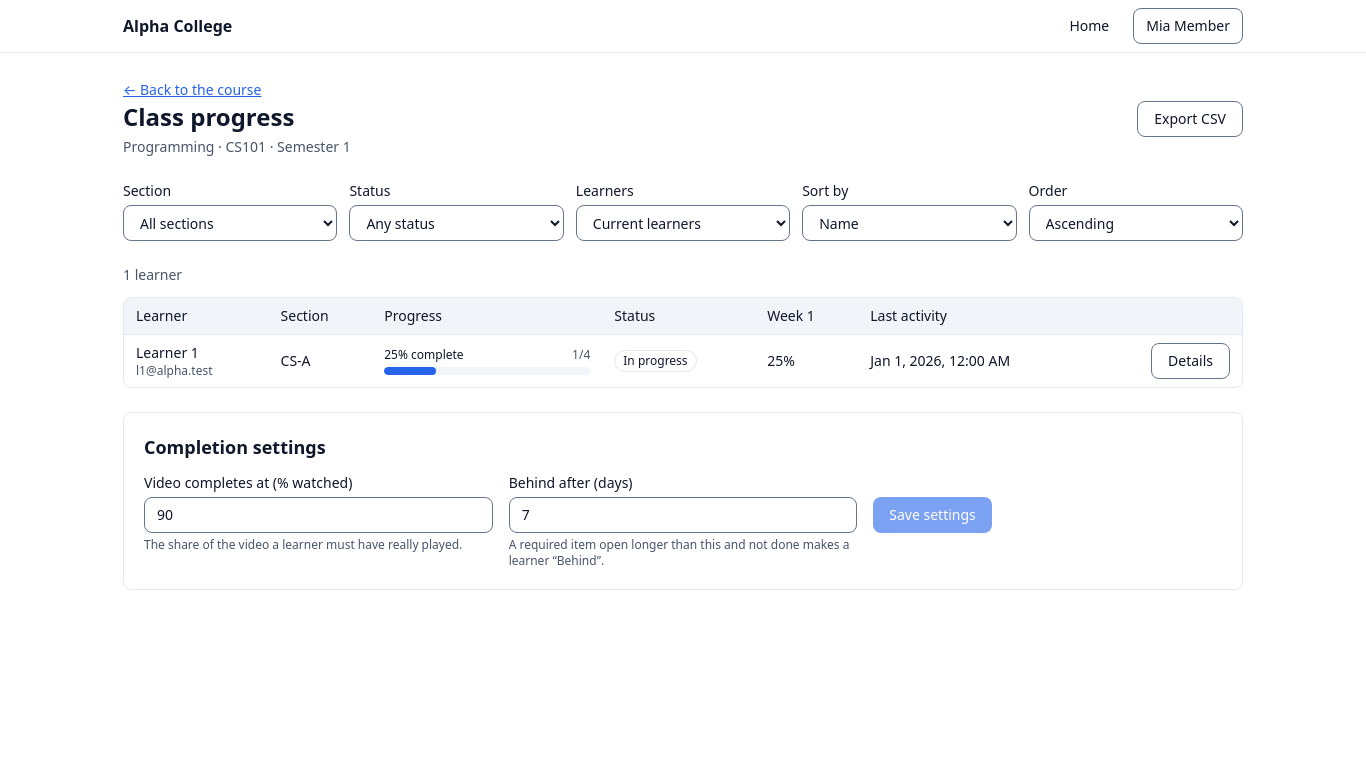
Test: the class progress page › opens one learner item by item, with flagged heartbeats
Click the button with aria-label "Details of Learner 1" at (1190, 361), box [1151,343,1230,379]
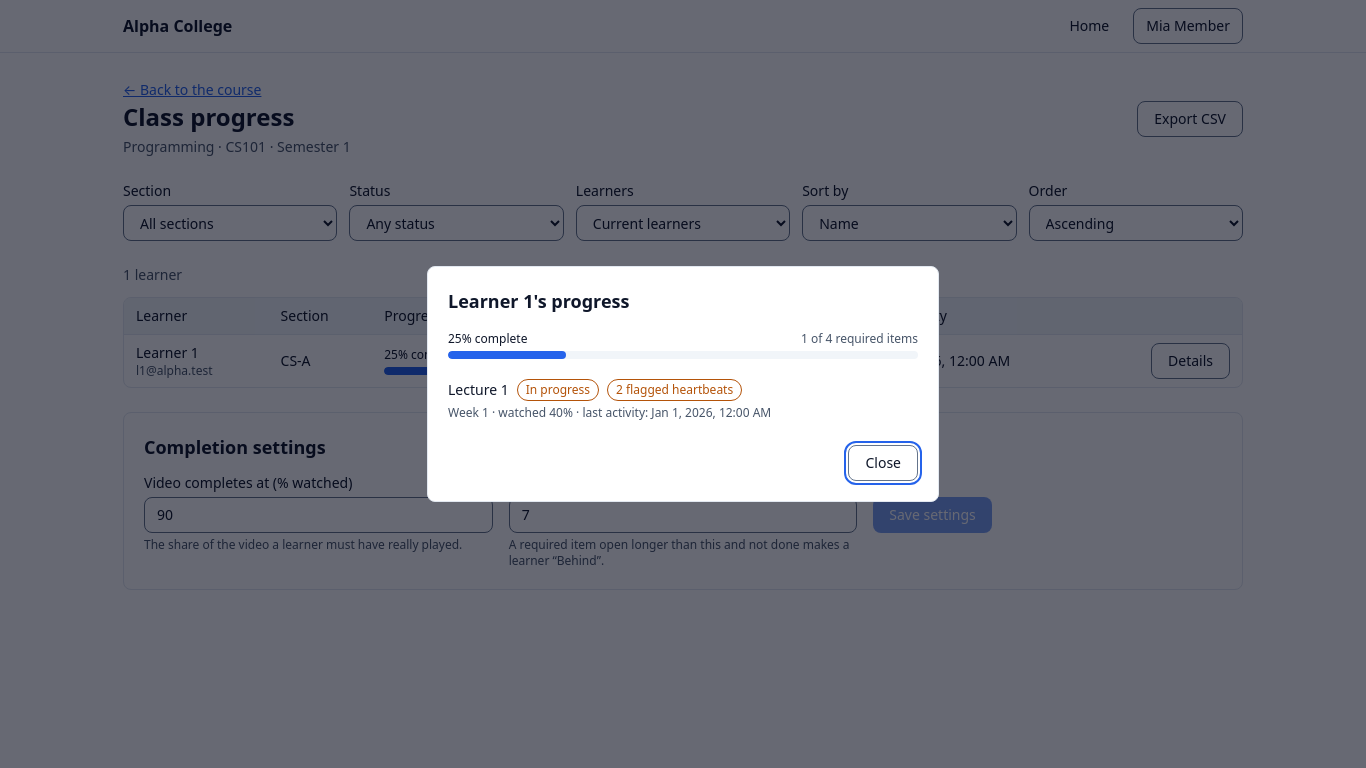
Expected: the text "Lecture 1" is shown, [448,380,509,400]
Expected: the text "Week 1 · watched 40% · last activity: Jan 1, 2026, 12:00 AM" is shown, [448,404,771,421]
Expected: the text "2 flagged heartbeats" is shown, [607,379,742,401]
